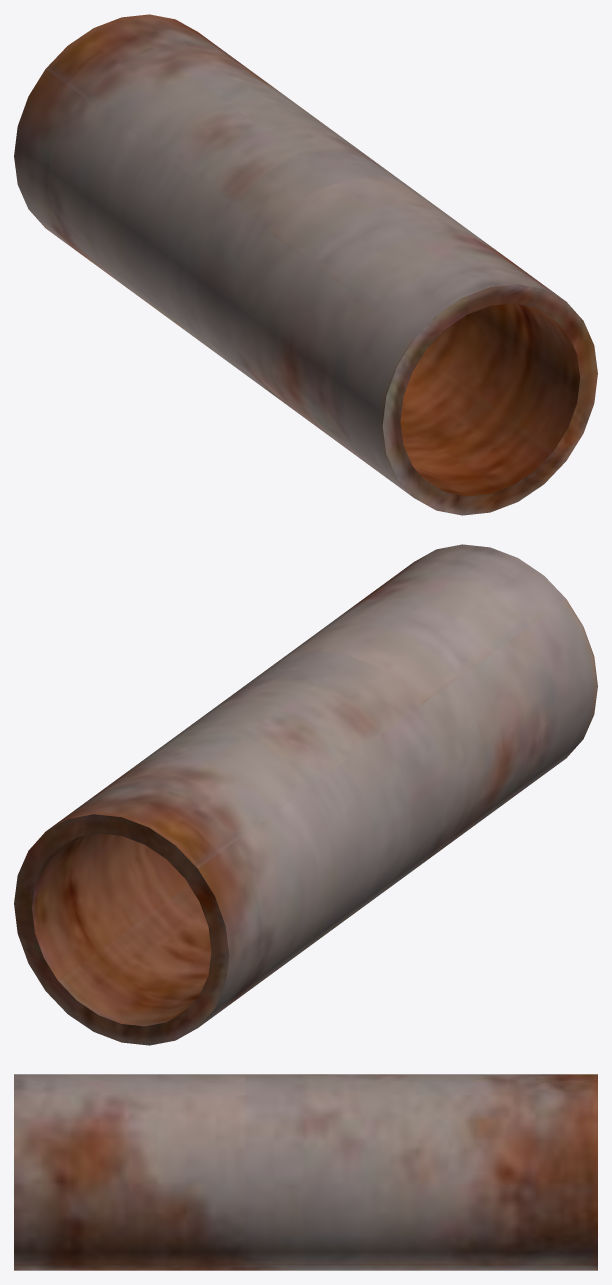
The model's file is small_steel_pipe_05.glb.
3 views of the same model, one above another, from view 1: azimuth 30°, elevation 25°; view 2: azimuth 150°, elevation 25°; view 3: azimuth 270°, elevation 25° (orthographic). The views are drawn at different scales.
Visible parts, largest first — view 1: small_steel_pipe_05; view 2: small_steel_pipe_05; view 3: small_steel_pipe_05.
Boxes of the visible parts, x1,y1,x2,y2 form: small_steel_pipe_05: (14,14,597,515); small_steel_pipe_05: (14,544,597,1045); small_steel_pipe_05: (14,1074,597,1270).
Size of what is drawn, in the model's own units: 0.0202 by 0.0202 by 0.06.
Materials: 1 (1 with a texture image).
